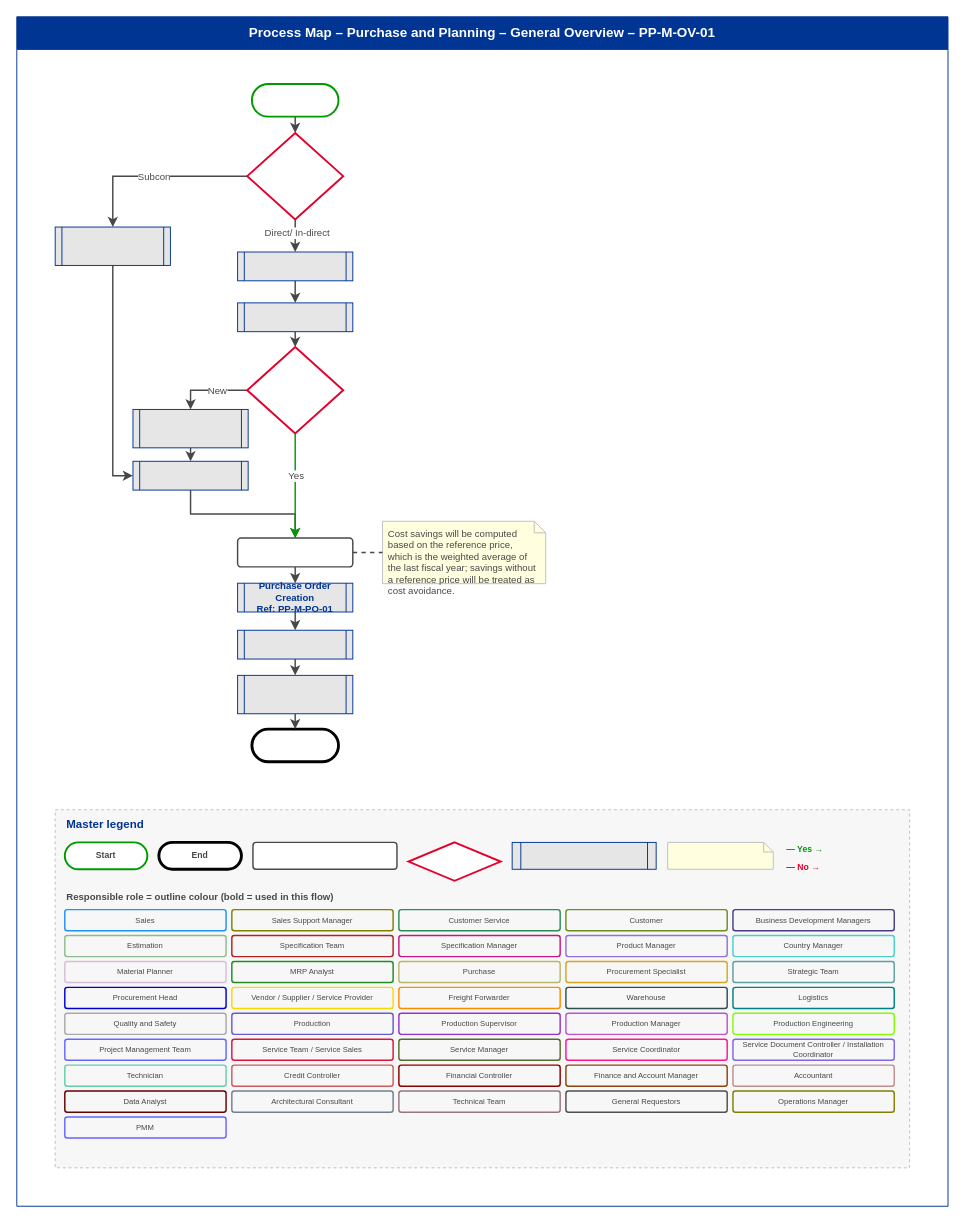
This 965x1223 diagram has some shape labels left out. The box of each missing label's shape, as (x1, y1, x2, y2) in pixels:
*Negotiation Record all Saving: (236, 537, 353, 567)
Activity (outline = role): (252, 841, 397, 870)
Decision: (407, 841, 501, 881)
Goods Shipment Direct Ref: PP-M-GS-01 Indirect Ref: PP-M-GS-02: (237, 674, 353, 714)
INBOUND: (250, 727, 339, 763)
Installation Subcontracting Process * Ref: PP-M-SC-01: (54, 226, 170, 265)
Linked process (Ref ID): (511, 841, 656, 869)
Note / checklist: (667, 841, 773, 869)
OC Verification Ref: PP-M-OC-01: (237, 629, 353, 659)
Procurement: (250, 83, 339, 117)
Product/ Acquisition Procurement ?: (246, 132, 344, 220)
Product/ Acquisition qualification process * Ref: PP-M-PQ-01: (132, 408, 248, 448)
Purchase Requisition Ref: PP-M-PR-01: (237, 302, 353, 332)
Re-order: (246, 346, 344, 434)
Safety Stock Update Ref: PP-M-SS-01: (237, 251, 353, 281)
Vendor Assignment Ref: PP-M-VA-01: (132, 460, 248, 490)
